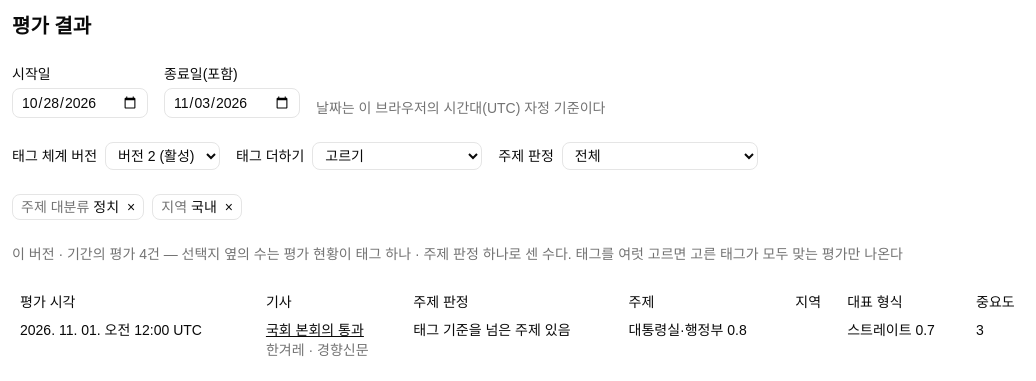
Scenario: EvaluationListPage › 목록 응답이 알려 준 상한만큼 고르면 더 고를 수 없다
Expected: the table named "평가 결과" is shown, [12, 288, 1035, 364]
Select "스트레이트 (4)" in the dropdown labelled "태그 더하기" at (397, 156), box [312, 142, 482, 170]
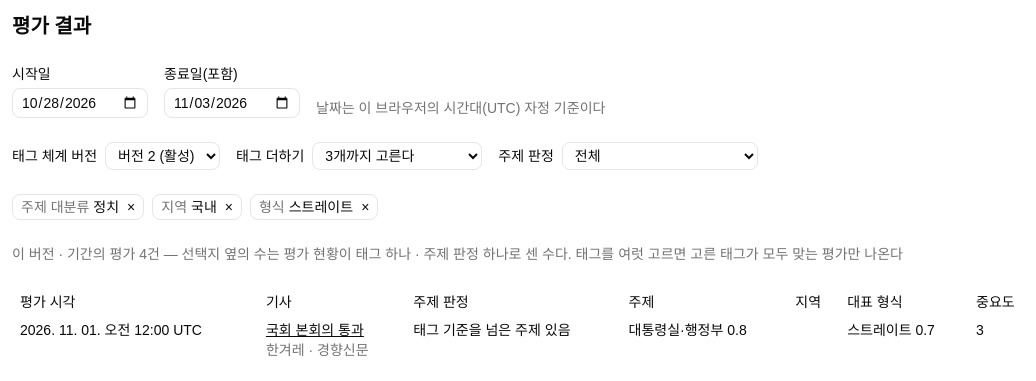
Expected: the dropdown labelled "태그 더하기" is disabled, [312, 142, 482, 170]
